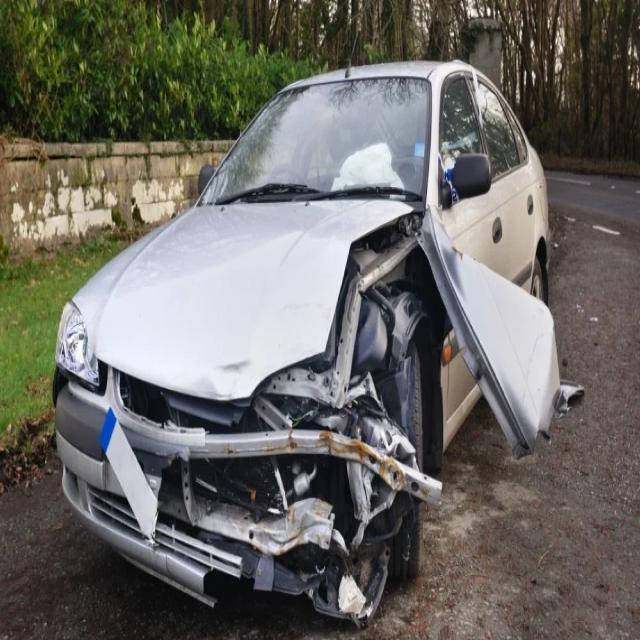Accident: (52, 66, 560, 624)
